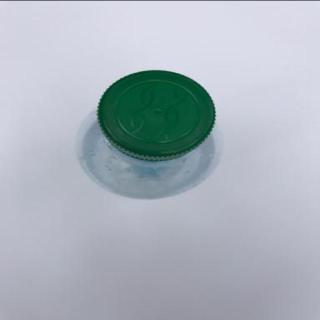Anorganik: (72, 68, 234, 204)
